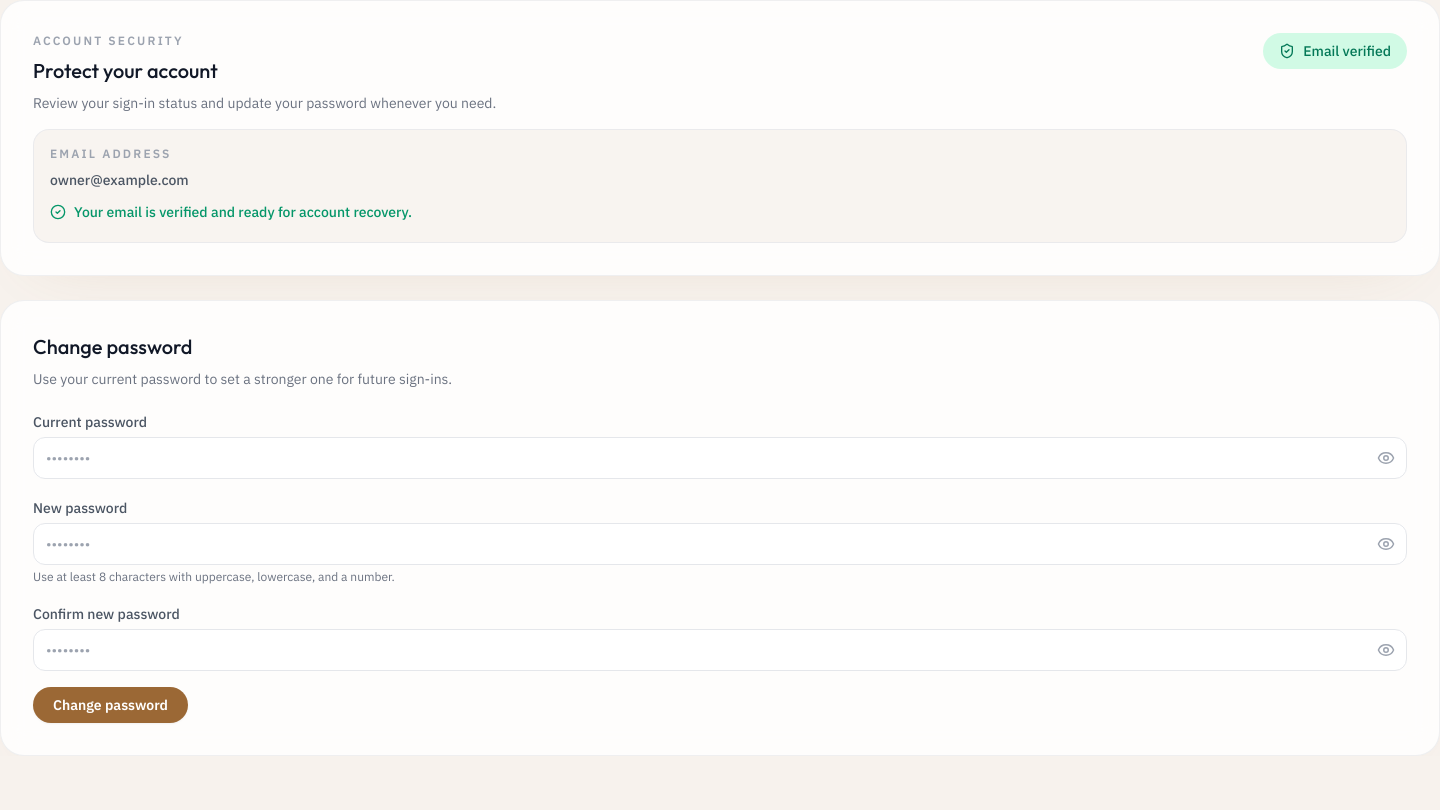
AccountSecurityPanel › maps current-password failures to a clear error message
This screenshot has width=1440, height=810.
Type "WrongPass1" into the password field labelled "Current password" at coordinates (720, 458), box [33,437,1407,479]
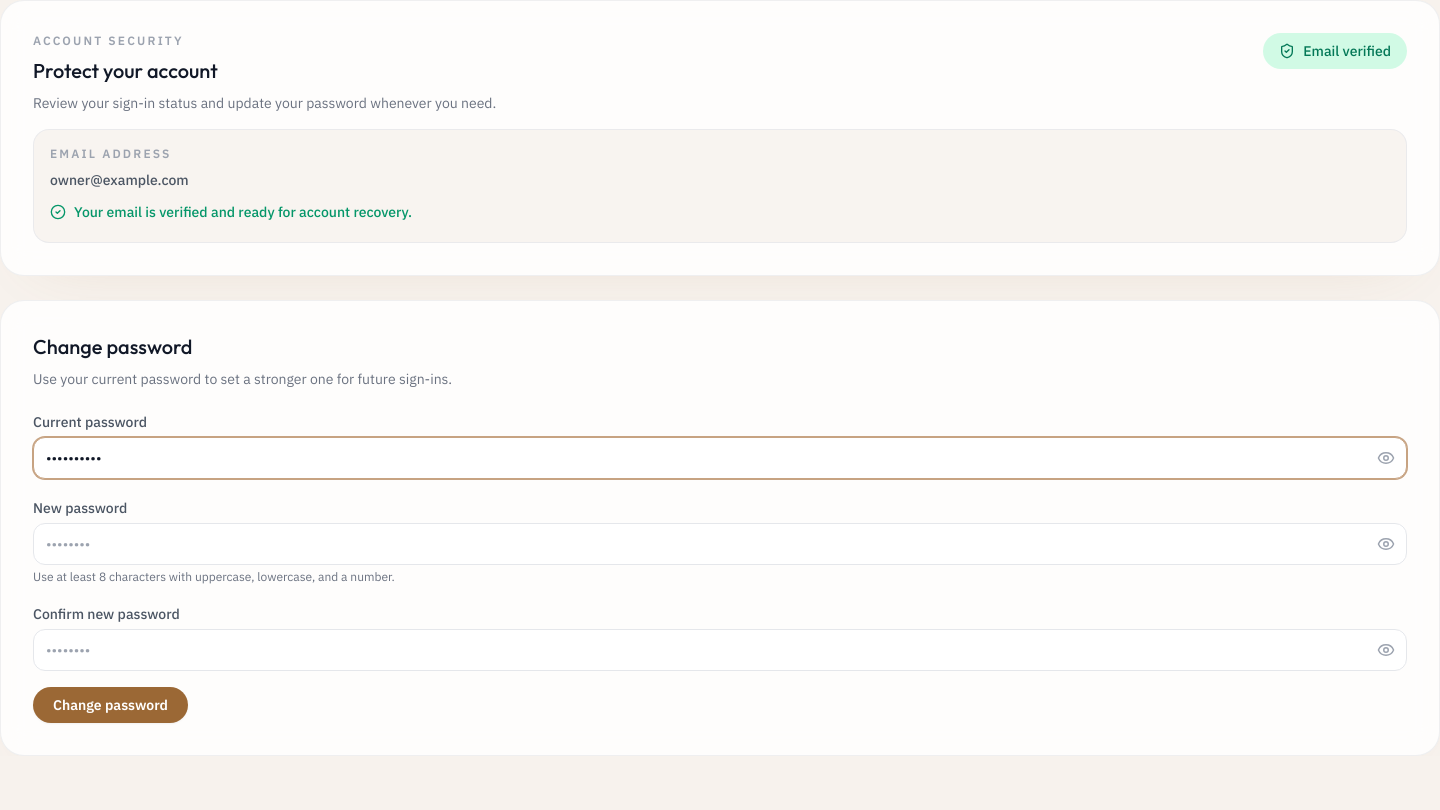
Type "StrongPass1" into the password field labelled "New password" at coordinates (720, 544), box [33,523,1407,565]
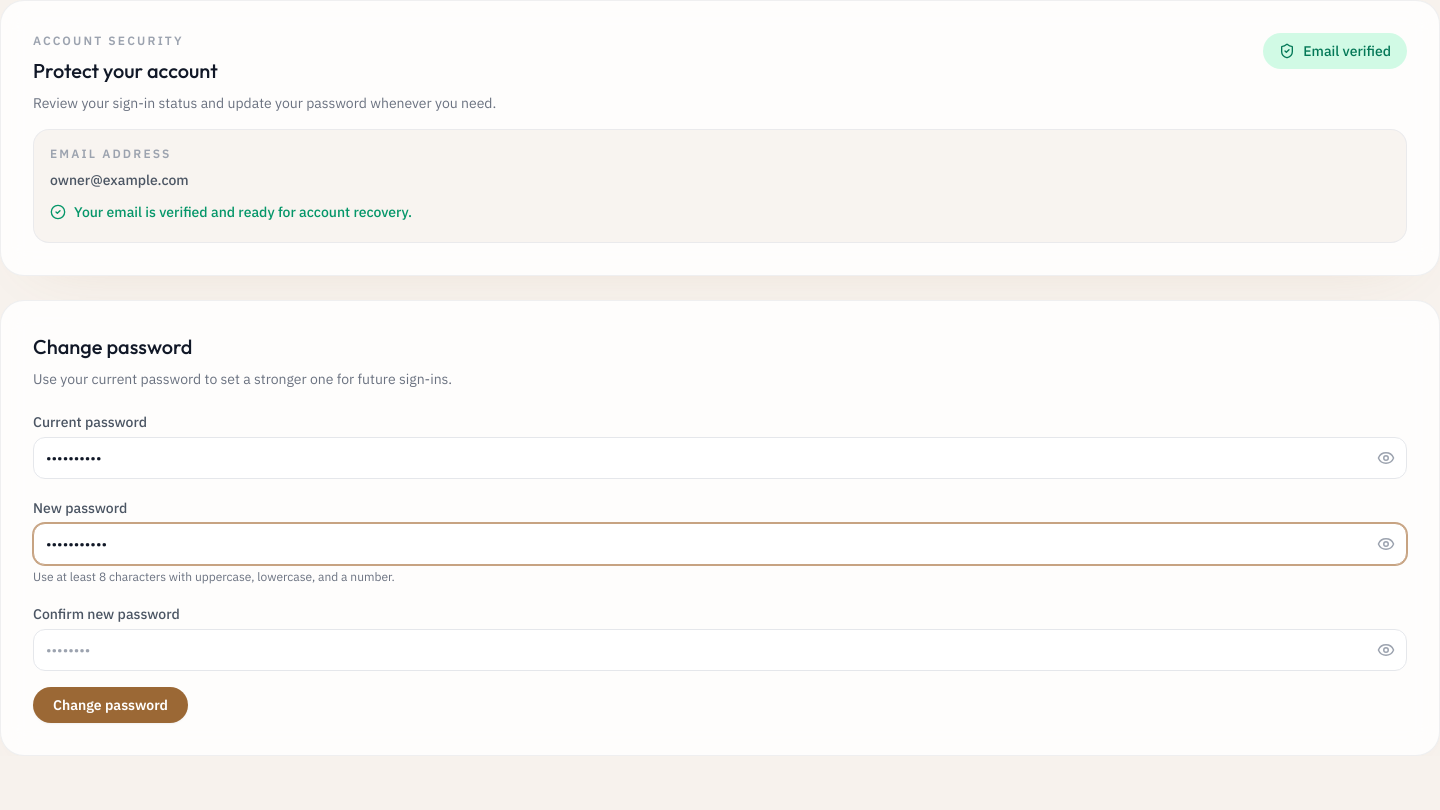
Type "StrongPass1" into the password field labelled "Confirm new password" at coordinates (720, 650), box [33,629,1407,671]
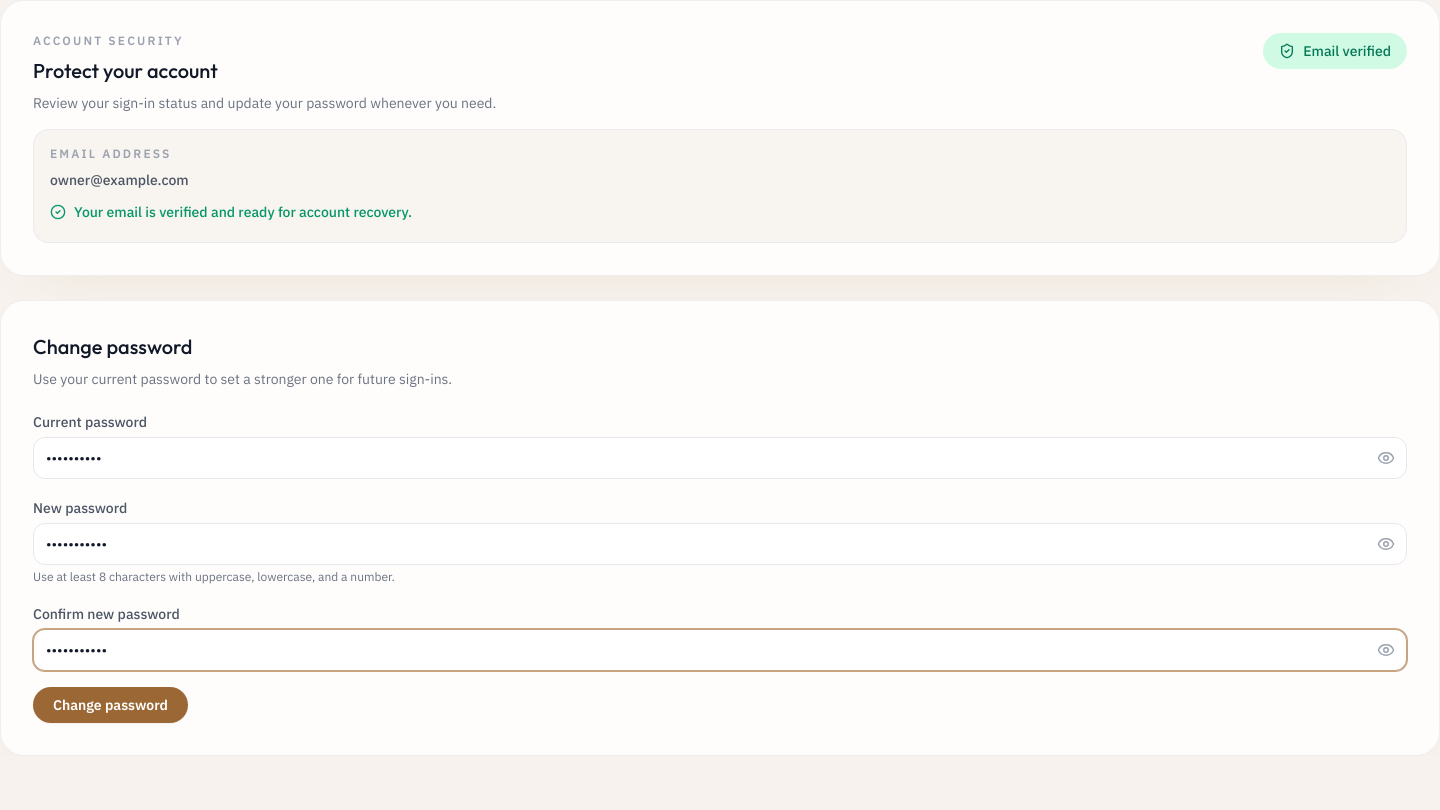
Click the button "Change password" at coordinates (110, 705), box [33,687,188,723]
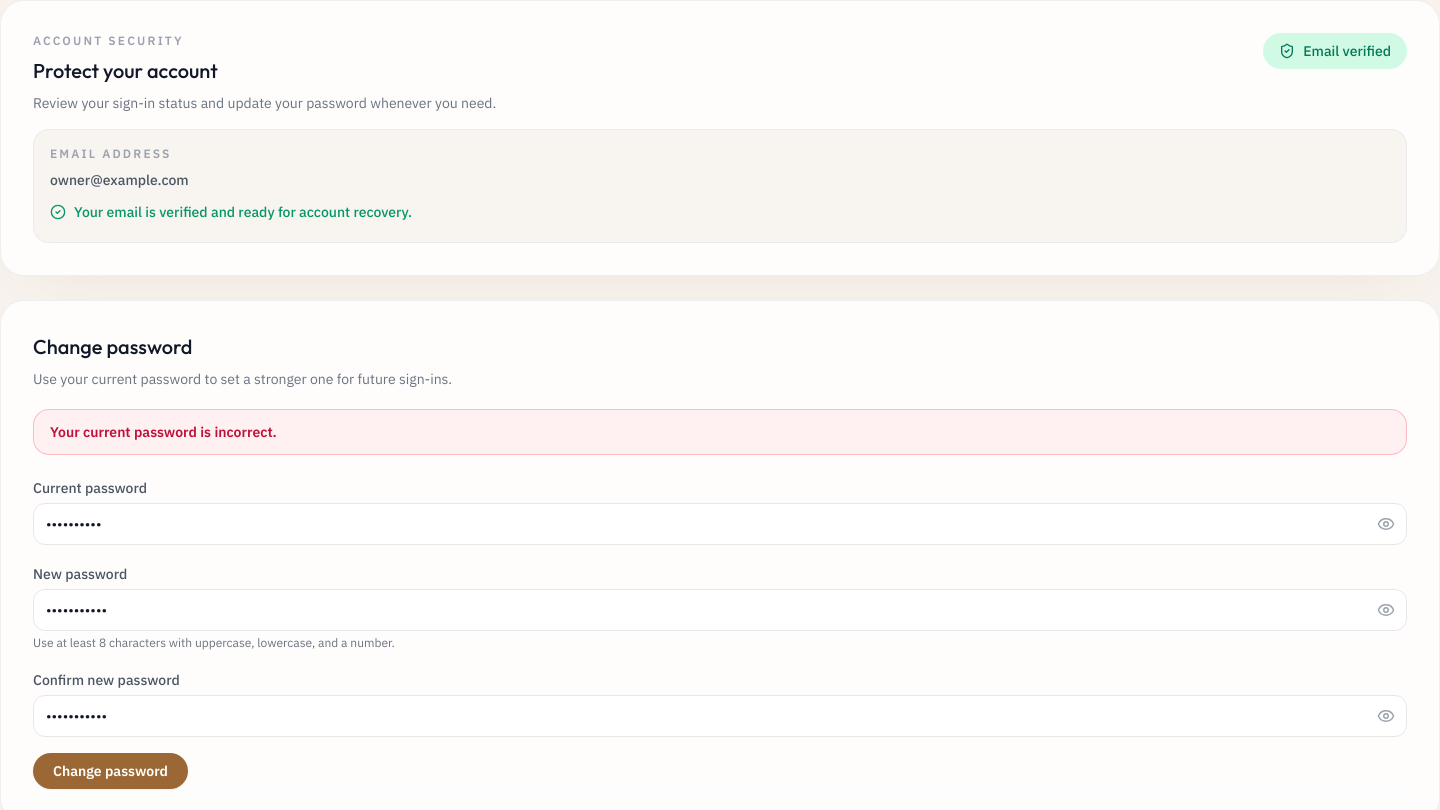
expect the text "Your current password is incorrect." is shown: met, box [50,423,277,441]
